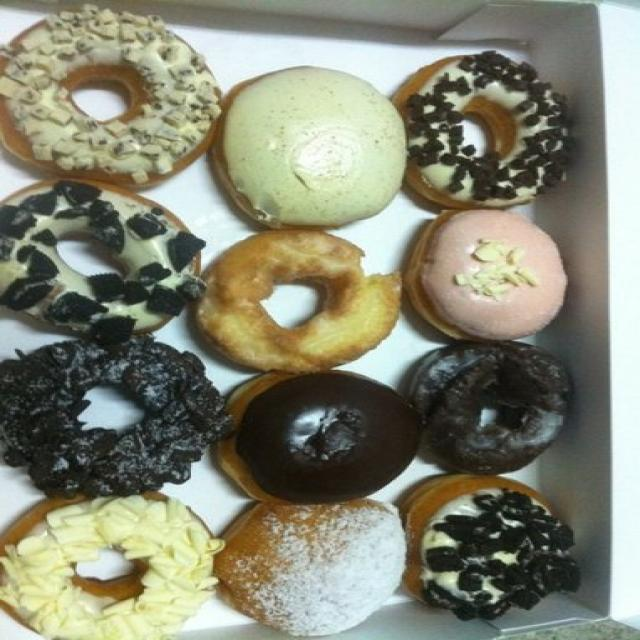Donuts: (7, 2, 587, 640)
